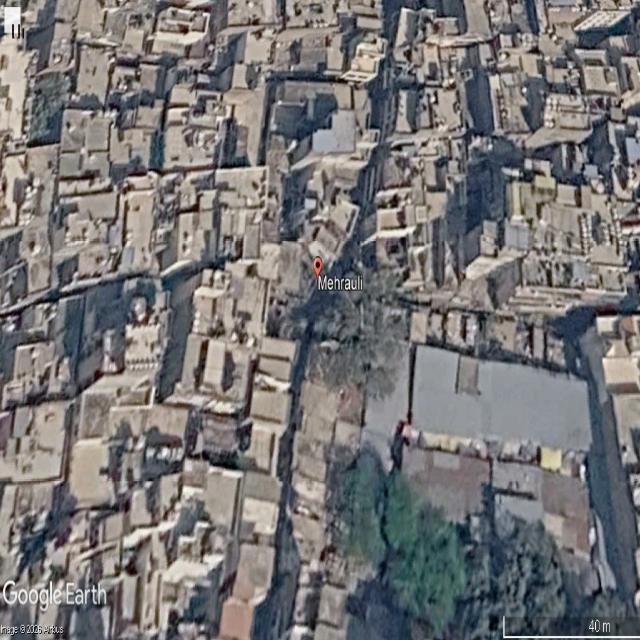objects-ruins-artifacts: (337, 304, 614, 552), (36, 74, 260, 295)
